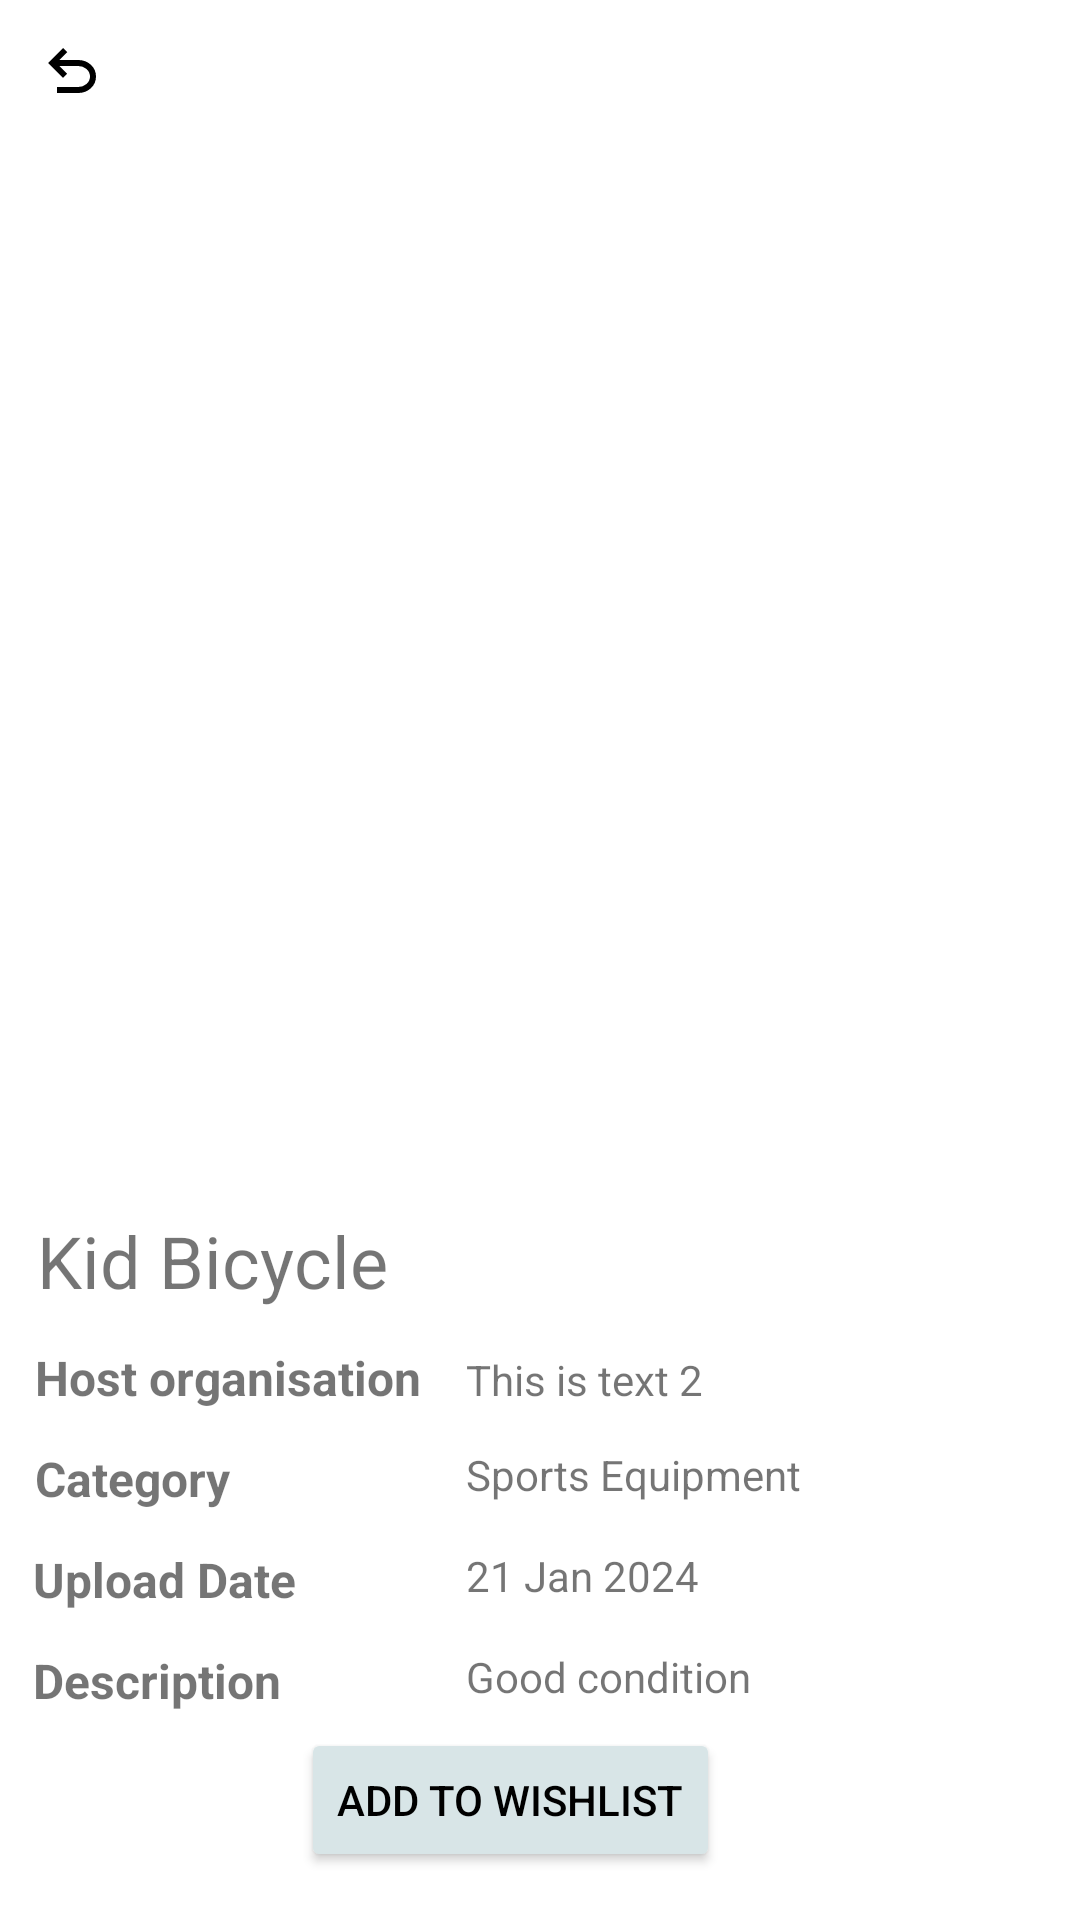

Icon bounding boxes for this 1080x1920 phone screenshot, format (x1, y1, x2, y2):
back: (48, 48, 96, 93)
